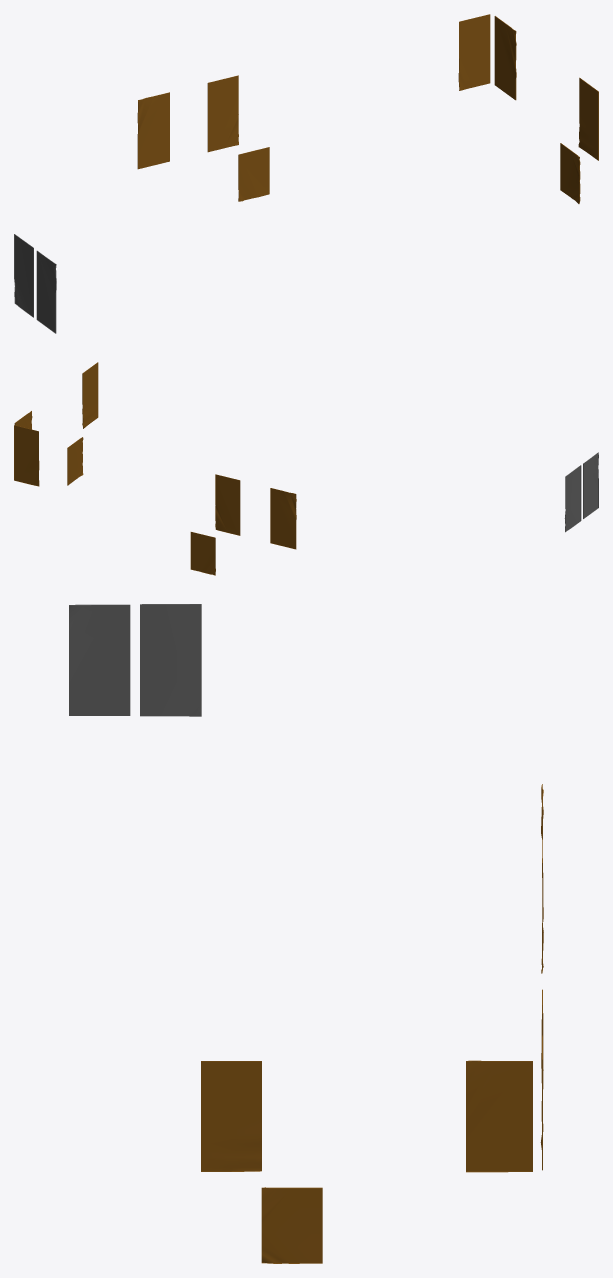
File: SM_H_Building_Tide_Dock_01a_ATLAS.fbx
The picture shows the model from 3 angles, top to bottom: view 1: azimuth 30°, elevation 25°; view 2: azimuth 150°, elevation 25°; view 3: azimuth 270°, elevation 25°; orthographic projection. The views are drawn at different scales.
Parts seen in each view (by area): view 1: SM_H_Building_Tide_Dock_01a_ATLAS_LOD0; view 2: SM_H_Building_Tide_Dock_01a_ATLAS_LOD0; view 3: SM_H_Building_Tide_Dock_01a_ATLAS_LOD0.
Part boxes in pixels (x1=…): SM_H_Building_Tide_Dock_01a_ATLAS_LOD0: x1=14, y1=14, x2=598, y2=333; SM_H_Building_Tide_Dock_01a_ATLAS_LOD0: x1=14, y1=362, x2=598, y2=575; SM_H_Building_Tide_Dock_01a_ATLAS_LOD0: x1=69, y1=604, x2=543, y2=1263.
Size of the model in its own units: 2885 by 1265 by 595.
